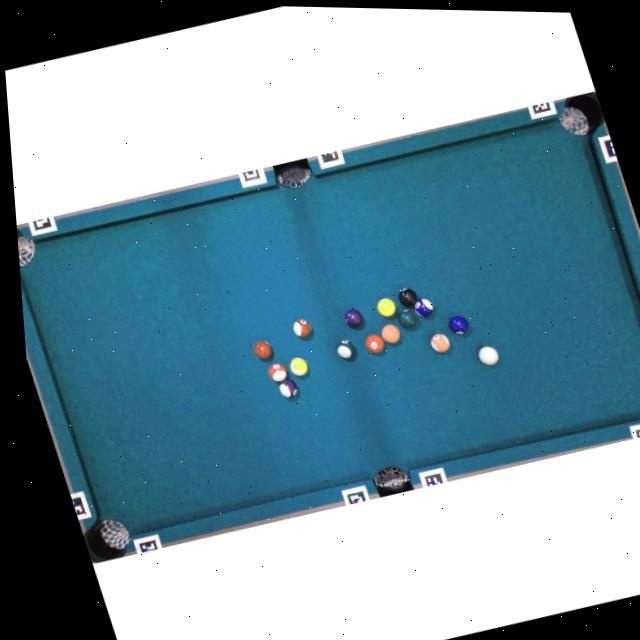cue ball: (475, 343, 501, 367)
other: (265, 360, 290, 384), (378, 321, 403, 345), (275, 376, 300, 400), (396, 285, 420, 309), (446, 313, 471, 336), (362, 332, 387, 355), (427, 331, 452, 354), (333, 337, 357, 360), (342, 306, 365, 329), (412, 296, 435, 319), (286, 355, 310, 377), (290, 316, 314, 338), (374, 295, 398, 317), (251, 338, 275, 360), (396, 307, 419, 329)
